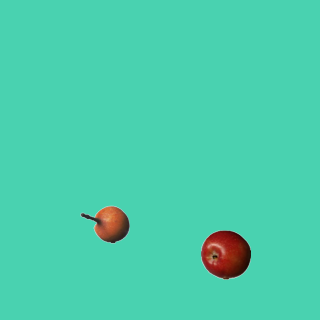Apple Braeburn: (200, 229, 250, 279)
Granadilla: (79, 199, 129, 249)
